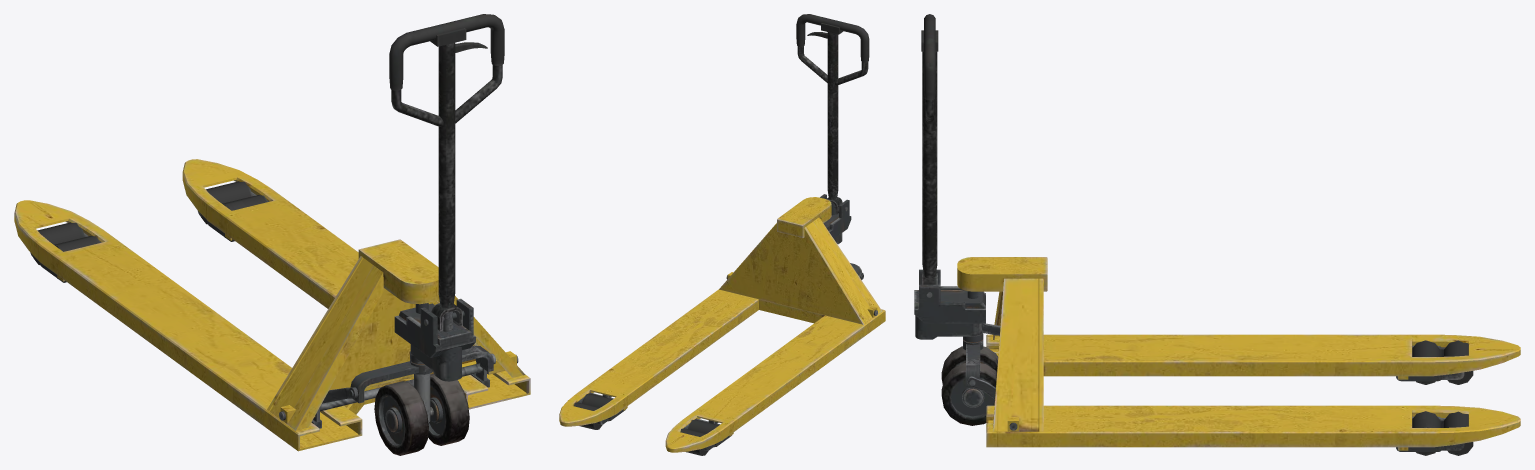
The model's file is pallet_truck.glb.
3 views of the same model, side by side, from view 1: azimuth 30°, elevation 25°; view 2: azimuth 150°, elevation 25°; view 3: azimuth 270°, elevation 25° (orthographic). The views are drawn at different scales.
Visible parts, largest first — view 1: Base; view 2: Base; view 3: Base.
Boxes of the visible parts, left/top/right/bottom form: Base: left=14, top=14, right=530, bottom=455; Base: left=559, top=14, right=885, bottom=455; Base: left=914, top=14, right=1520, bottom=455.
Bounding box in the file's own units: 0.7682 × 1.38 × 1.98.
1 material, 1 textured.
